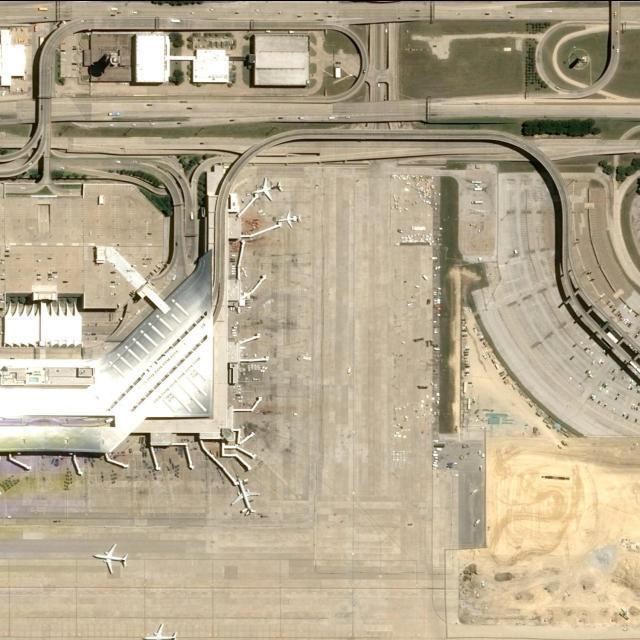Aircraft: (231, 478, 260, 518), (92, 544, 129, 573), (138, 623, 180, 640), (253, 179, 284, 200), (274, 212, 298, 228)
